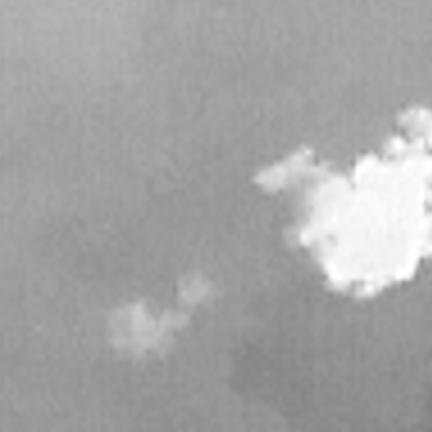flukeprints: (261, 109, 431, 298)
